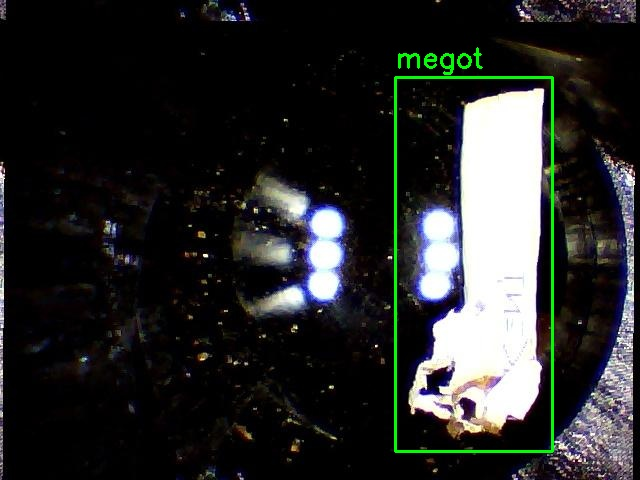megot: (395, 77, 552, 451)
